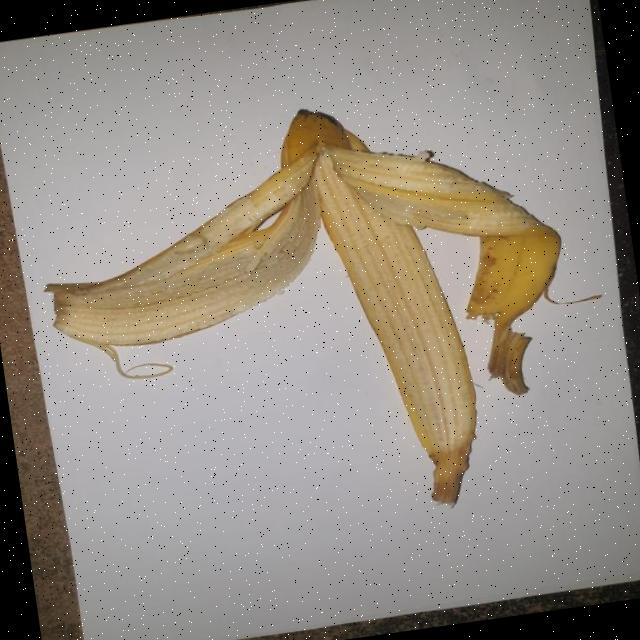banana-peel: (23, 73, 598, 559)
